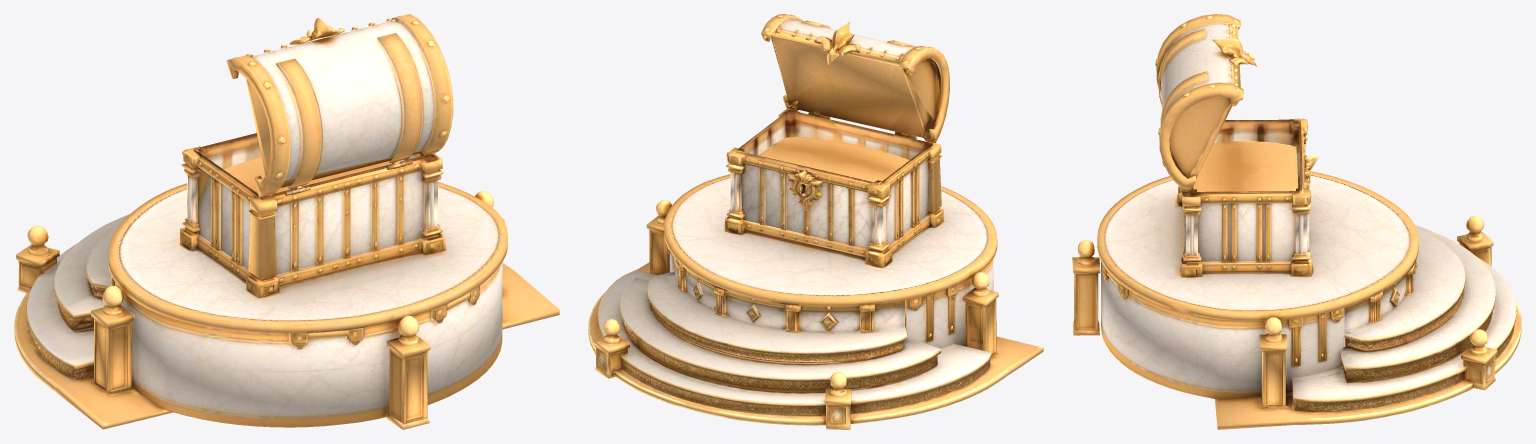
Rendered from depositChest.glb.
3 views of the same model, side by side, from view 1: azimuth 30°, elevation 25°; view 2: azimuth 150°, elevation 25°; view 3: azimuth 270°, elevation 25° (orthographic). The views are drawn at different scales.
Visible parts, largest first — view 1: hedge8; view 2: hedge8; view 3: hedge8.
Boxes of the visible parts, bbox=[...] form: hedge8: bbox=[14, 14, 559, 429]; hedge8: bbox=[588, 14, 1043, 429]; hedge8: bbox=[1072, 14, 1521, 429].
Bounding box in the file's own units: 5.36 × 3.82 × 5.26.
Materials: 1 (1 with a texture image).
